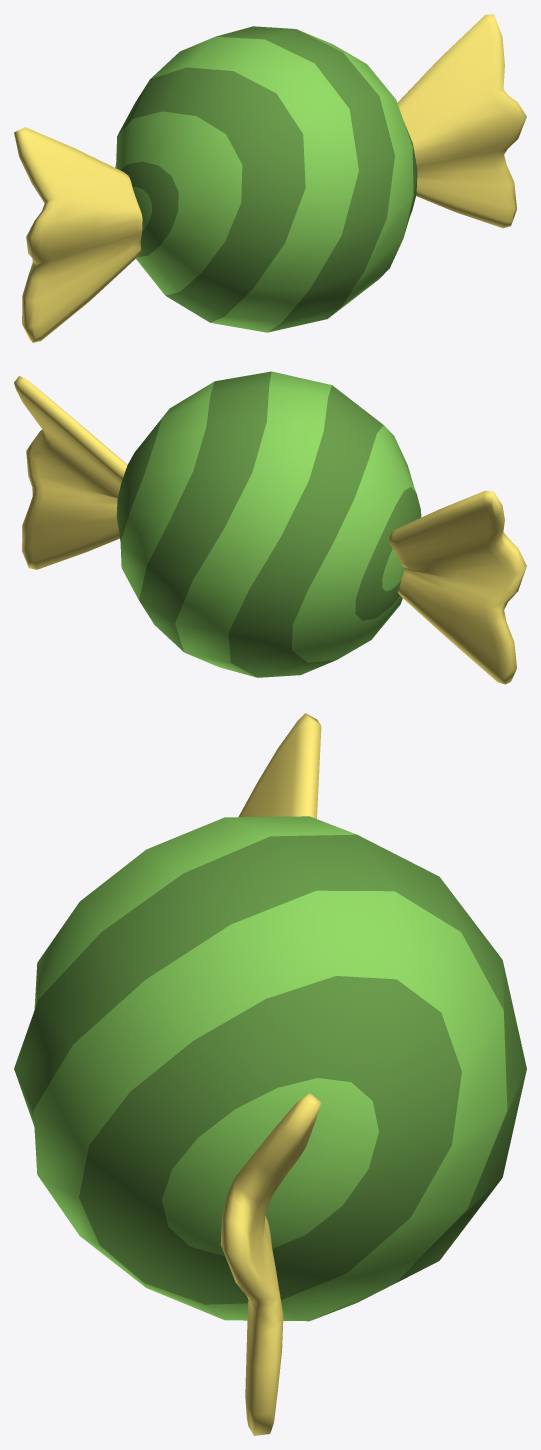
Rendered from sugar_1 (2).fbx.
The picture shows the model from 3 angles, top to bottom: view 1: azimuth 30°, elevation 25°; view 2: azimuth 150°, elevation 25°; view 3: azimuth 270°, elevation 25°; orthographic projection. The views are drawn at different scales.
Parts seen in each view (by area): view 1: sugar_1; view 2: sugar_1; view 3: sugar_1.
Part boxes in pixels (left/top/right/bottom): sugar_1: left=14, top=14, right=526, bottom=342; sugar_1: left=14, top=371, right=526, bottom=684; sugar_1: left=14, top=713, right=526, bottom=1435.
Size of the model in its own units: 53.44 by 28.67 by 28.67.
